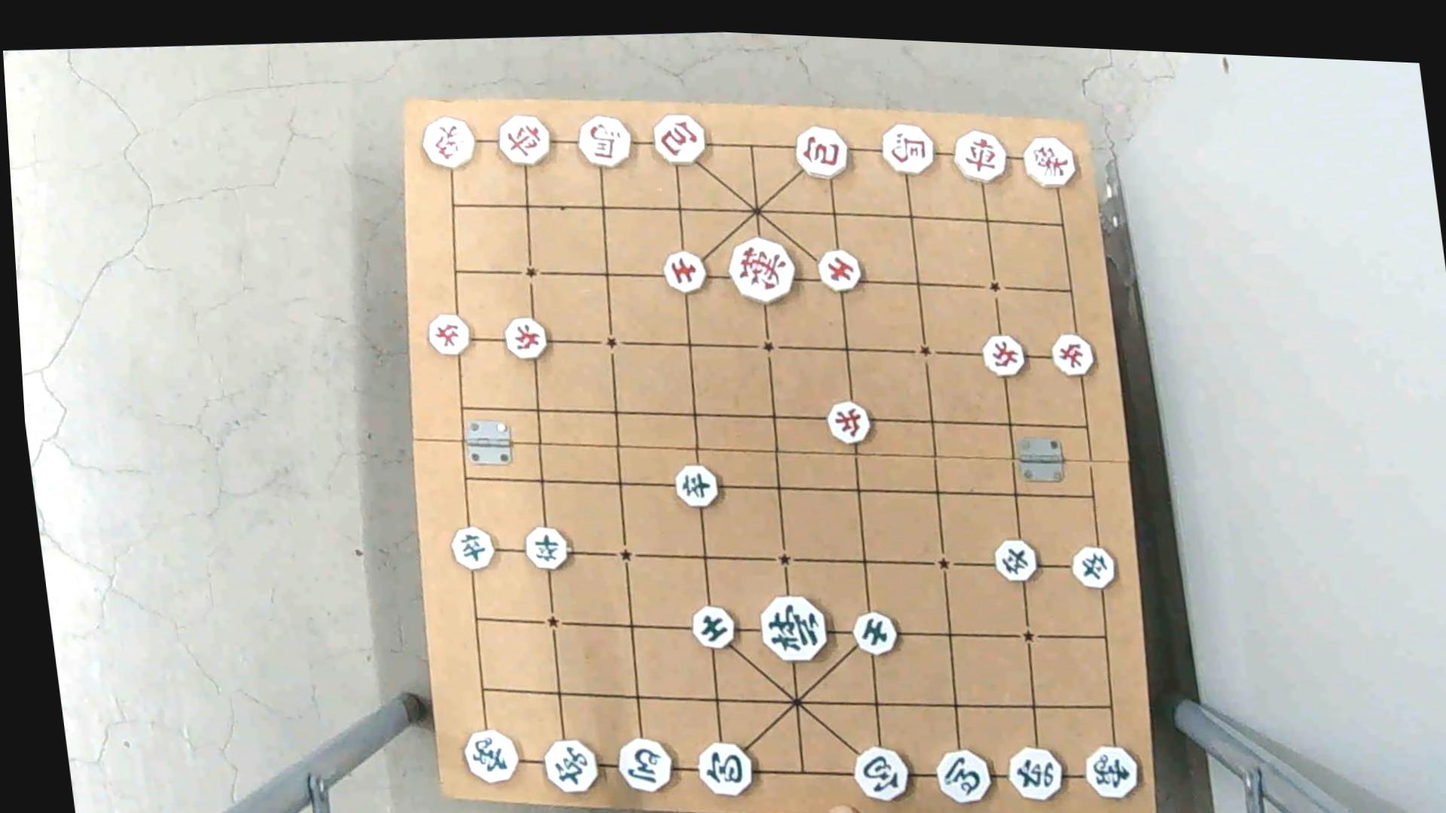cha_green: (1005, 744, 1068, 799), (539, 737, 601, 791)
cha_red: (946, 130, 1010, 183), (492, 113, 556, 165)
jol_green: (520, 525, 572, 568), (670, 464, 722, 507), (990, 539, 1040, 583), (447, 525, 497, 568), (1068, 546, 1119, 588)
jol_red: (503, 318, 555, 361), (823, 399, 876, 441), (1045, 335, 1095, 378), (981, 333, 1031, 376), (423, 315, 474, 356)
ma_green: (613, 737, 676, 791), (928, 747, 990, 801)
ma_red: (576, 114, 639, 168), (875, 122, 935, 175)
po_green: (691, 739, 754, 795), (852, 746, 914, 802)
po_red: (649, 113, 712, 165), (789, 125, 850, 178)
sa_green: (685, 604, 738, 652), (847, 611, 898, 654)
sa_red: (657, 248, 710, 296), (815, 249, 864, 295)
sang_green: (460, 726, 523, 782), (1082, 744, 1146, 799)
sang_red: (1019, 134, 1081, 186), (419, 117, 476, 169)
wang_green: (758, 595, 832, 664)
wang_red: (723, 237, 798, 302)
